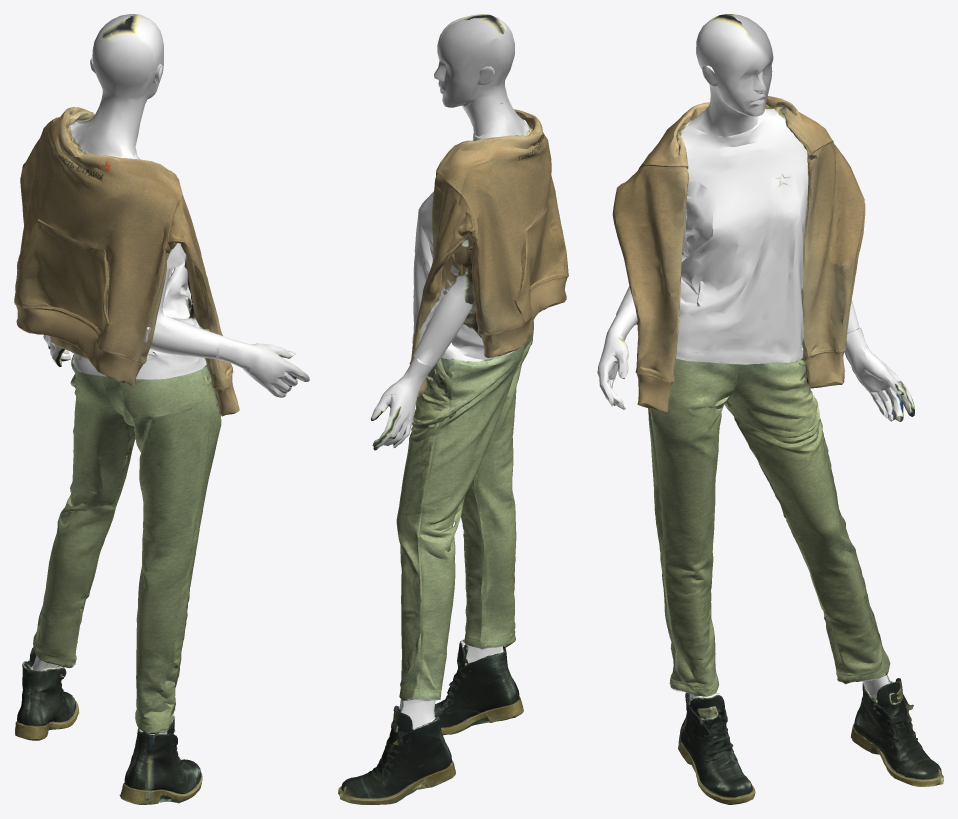
Rendered from Woman.fbx.
3 renders of one model, left to right at view 1: azimuth 30°, elevation 25°; view 2: azimuth 150°, elevation 25°; view 3: azimuth 270°, elevation 25°, orthographic. The views are drawn at different scales.
Visible parts, largest first — view 1: zhen bezh; view 2: zhen bezh; view 3: zhen bezh.
Boxes of the visible parts, x1,y1,x2,y2 form: zhen bezh: (14, 14, 309, 804); zhen bezh: (338, 14, 568, 804); zhen bezh: (597, 14, 943, 804).
Size of the model in its own units: 49.34 by 182 by 75.8.
